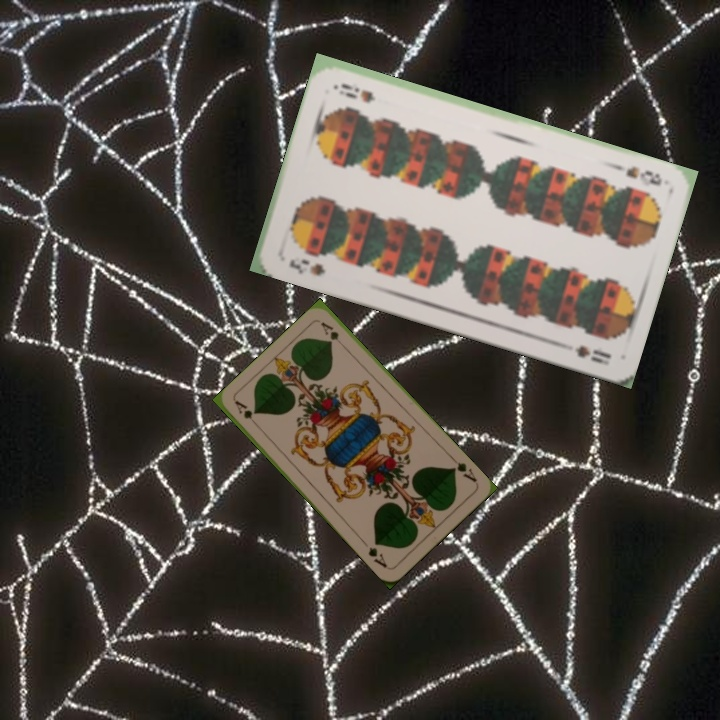GA: (231, 397, 263, 431), (447, 453, 480, 485)
S8: (610, 160, 665, 189), (285, 254, 328, 279)
